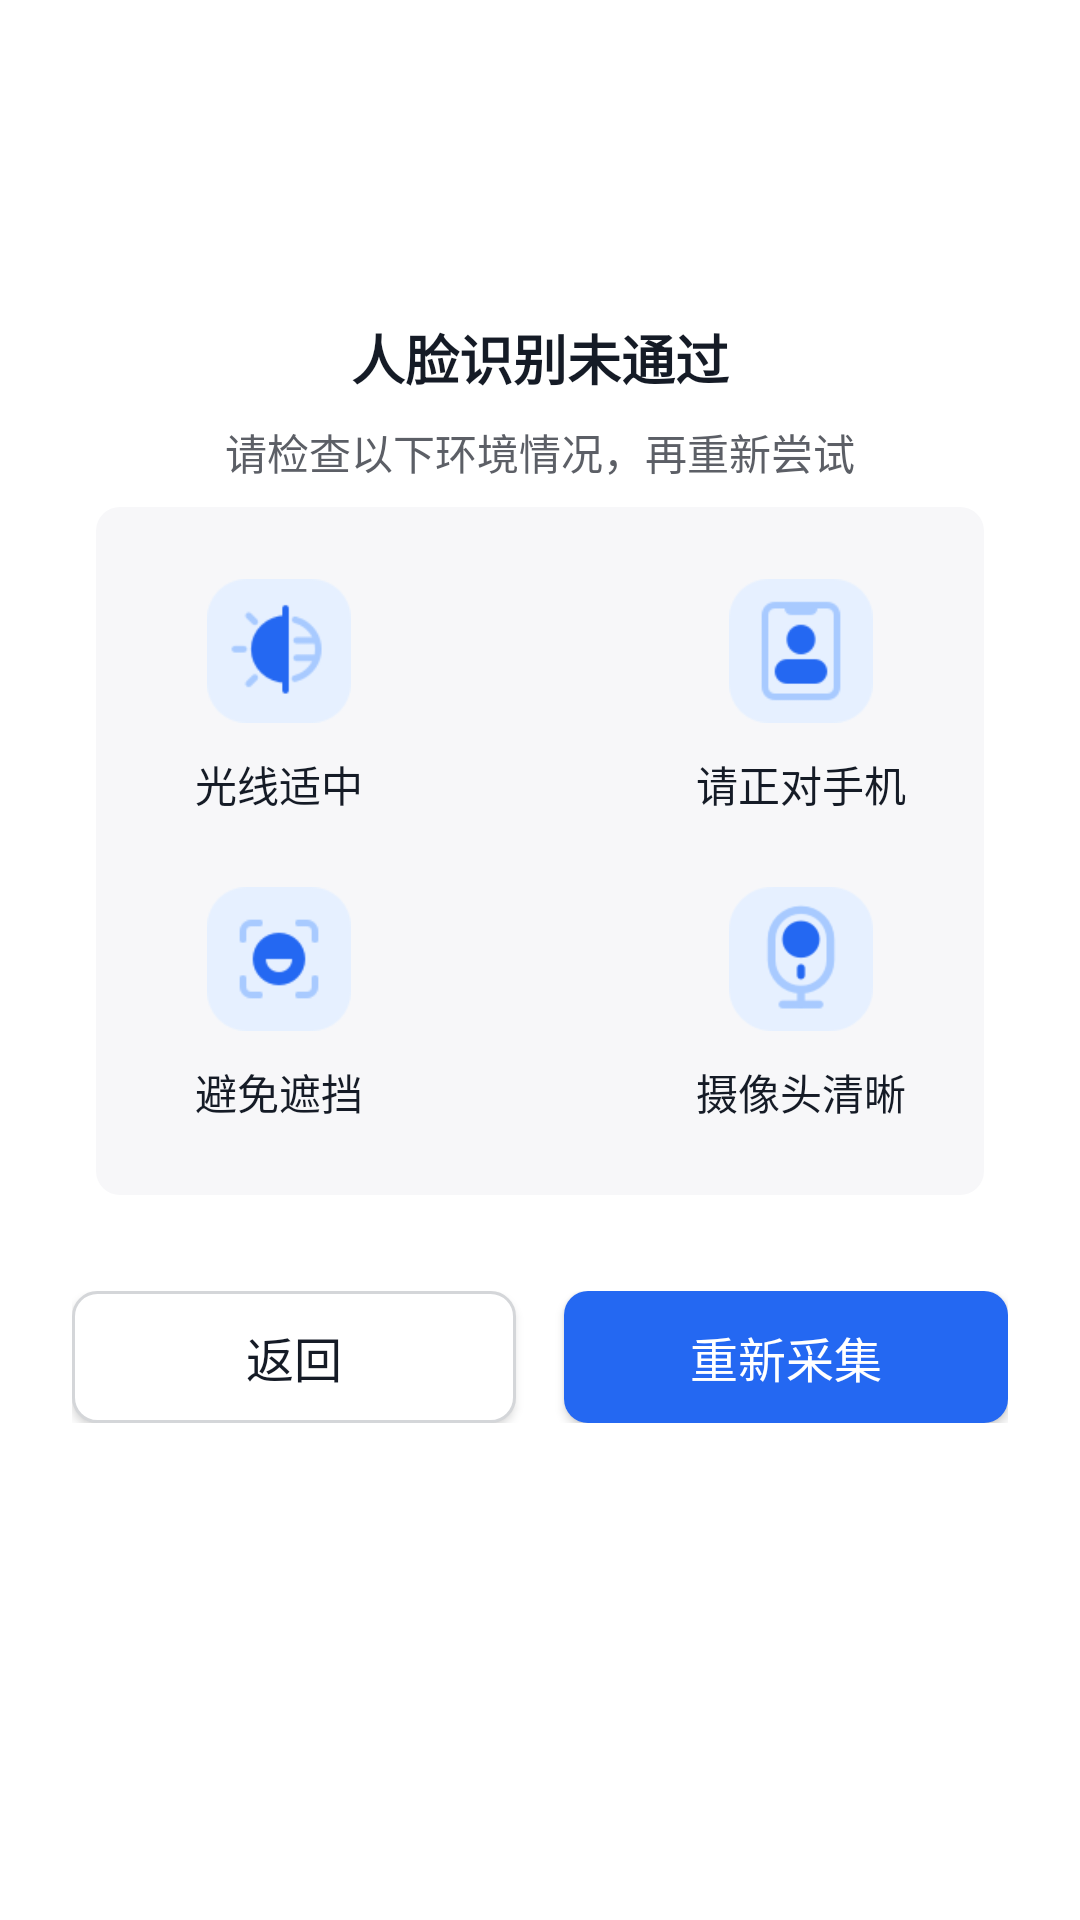

Icons on this 1080w x 1920h Android screen, each with its box as (x1, y1, x2, y2):
avoid obstruction: (239, 919, 319, 999)
clear camera: (766, 905, 836, 1009)
face to screen: (761, 601, 841, 701)
